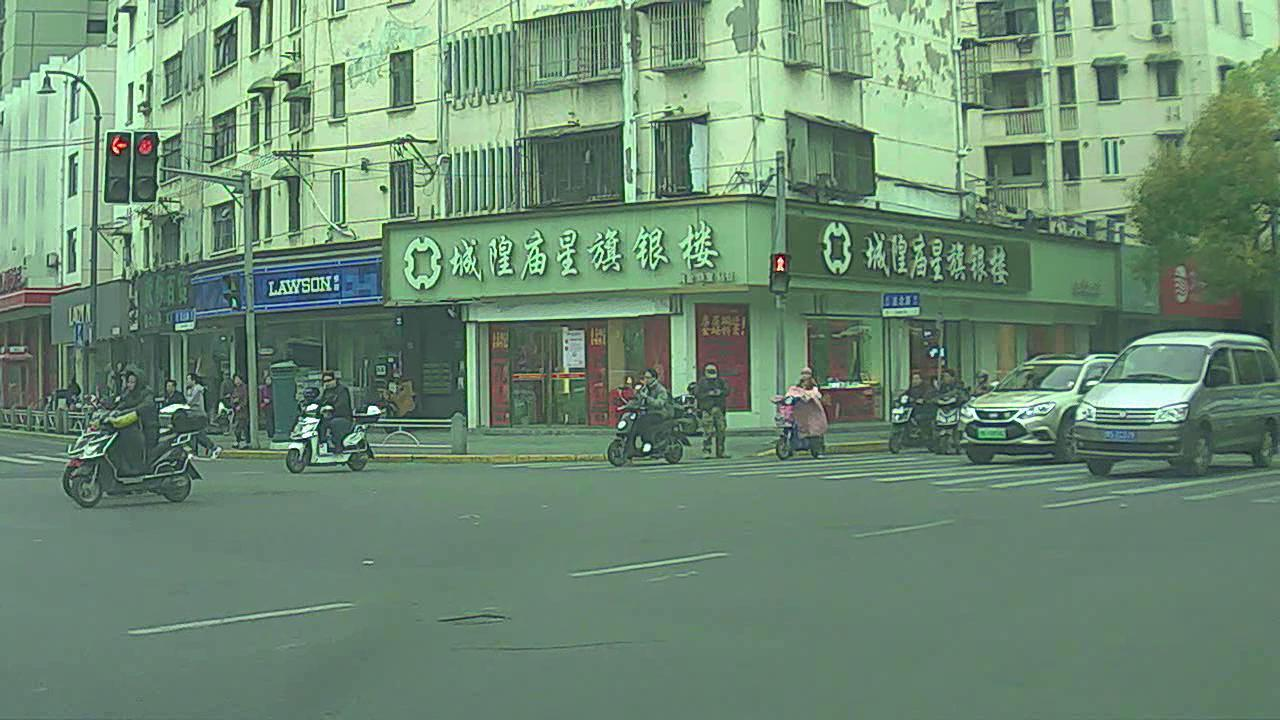traffic_light: (135, 127, 159, 202), (108, 126, 131, 201)
